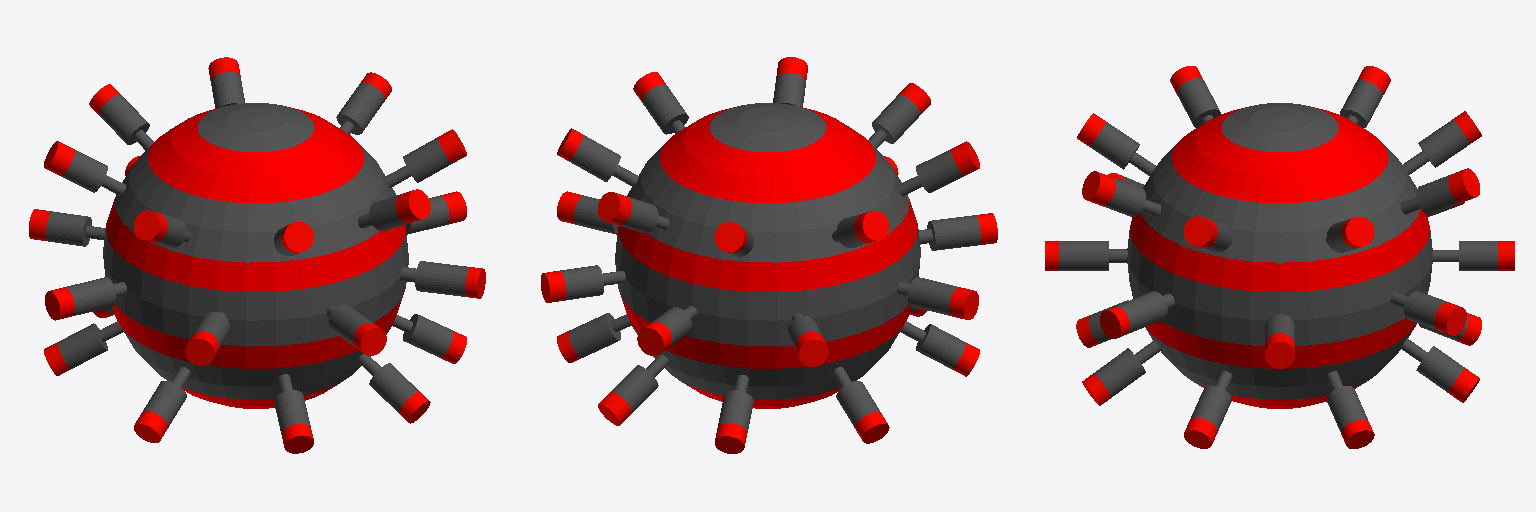
3 views of the same model, side by side, from view 1: azimuth 30°, elevation 25°; view 2: azimuth 150°, elevation 25°; view 3: azimuth 270°, elevation 25° (orthographic).
Parts seen in each view (by area): view 1: Sphere, Sphere.001; view 2: Sphere, Sphere.001; view 3: Sphere, Sphere.001.
Part boxes in pixels (x1,y1,x2,y2): Sphere: (103,103,408,408); Sphere.001: (29,57,485,453); Sphere: (615,103,920,408); Sphere.001: (541,57,997,453); Sphere: (1127,103,1432,408); Sphere.001: (1045,66,1514,448).
Size of the model in its own units: 3.07 by 2 by 3.07.
Materials: 2 (2 with a texture image).